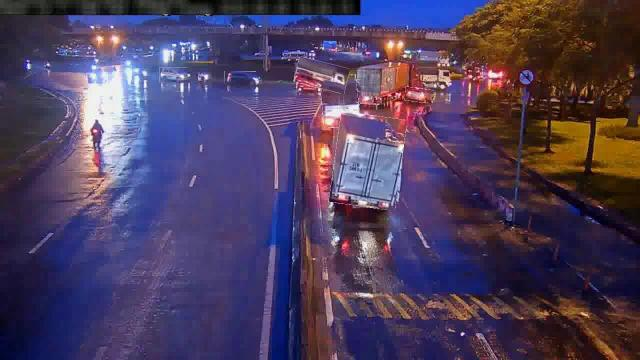Bike: (89, 118, 108, 148)
Car: (224, 72, 260, 84), (404, 88, 434, 102), (159, 68, 187, 82)
Truck: (332, 114, 404, 209), (320, 75, 360, 128), (295, 60, 349, 92)
